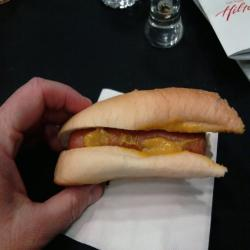burger: (54, 85, 245, 200)
